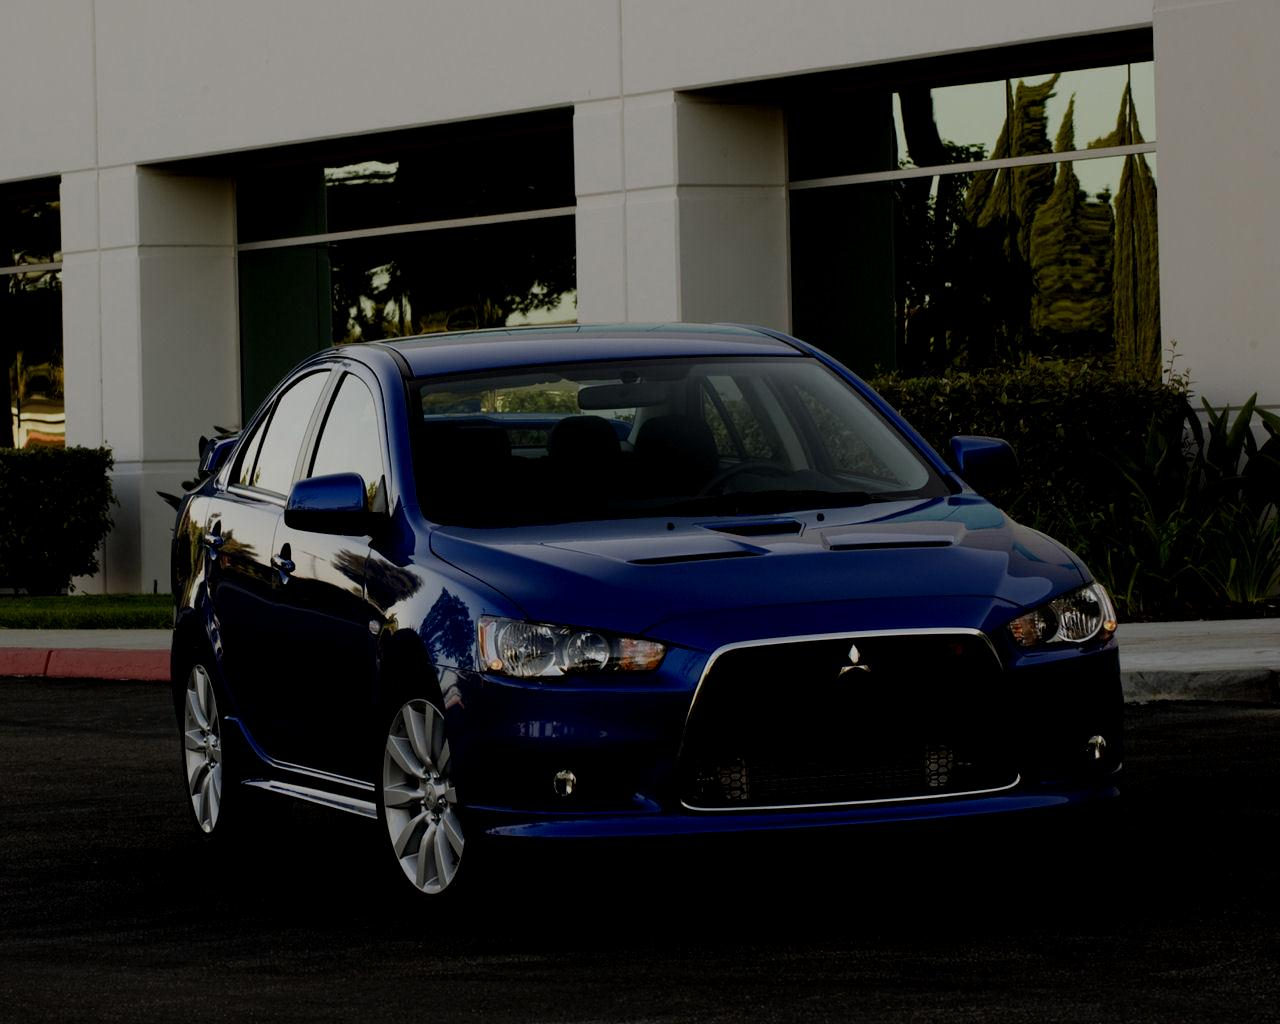Mitsubishi: (818, 636, 893, 690)
